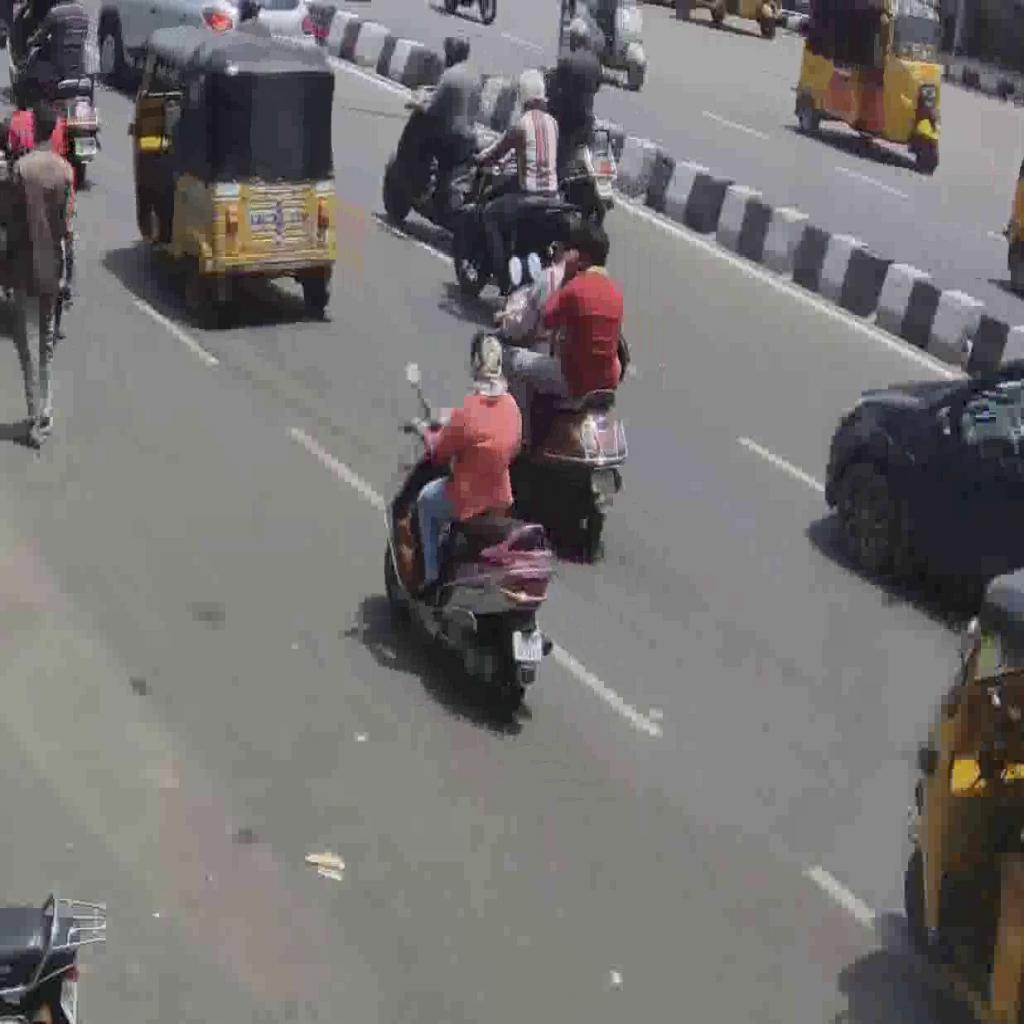helmet: (381, 406, 556, 716), (492, 278, 629, 562), (451, 145, 574, 297), (382, 84, 498, 236), (22, 28, 103, 189)
